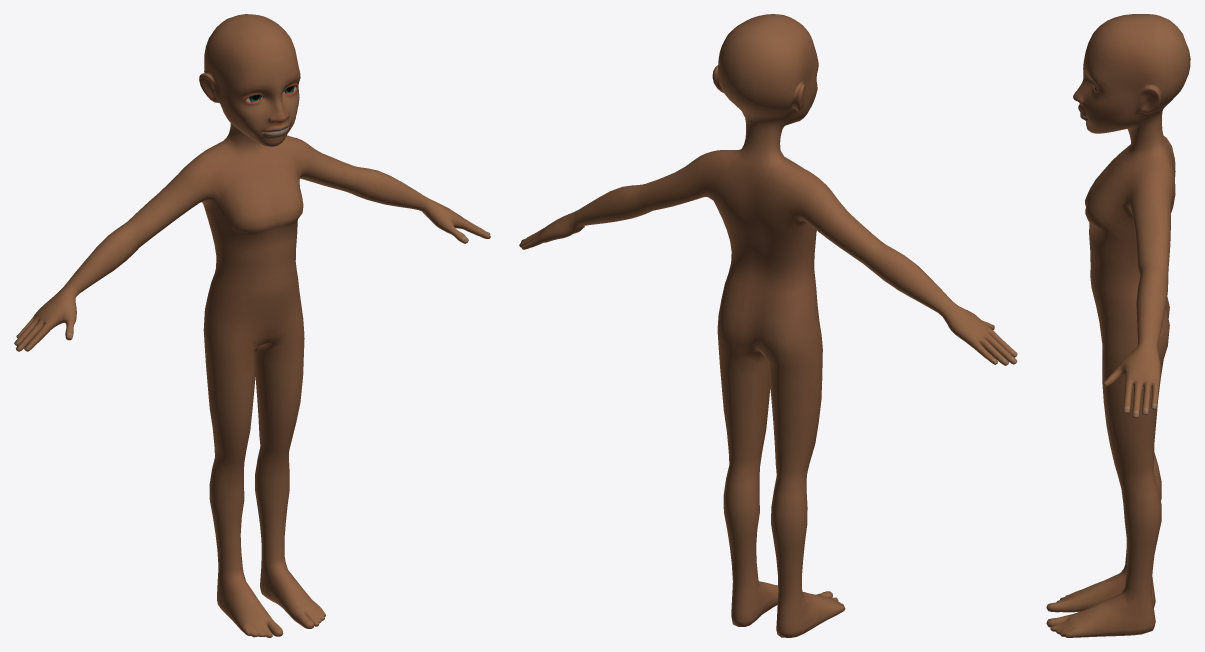
Rendered from frame_0033.glb.
The picture shows the model from 3 angles, left to right: view 1: azimuth 30°, elevation 25°; view 2: azimuth 150°, elevation 25°; view 3: azimuth 270°, elevation 25°; orthographic projection. The views are drawn at different scales.
Visible parts, largest first — view 1: frame_0033_head_geo; view 2: frame_0033_head_geo; view 3: frame_0033_head_geo.
Part boxes in pixels (x1=…): frame_0033_head_geo: x1=14, y1=14, x2=490, y2=637; frame_0033_head_geo: x1=519, y1=14, x2=1017, y2=637; frame_0033_head_geo: x1=1046, y1=14, x2=1190, y2=637.
Bounding box in the file's own units: 1.28 × 1.5 × 0.3253.
Materials: 3 (3 with a texture image).
